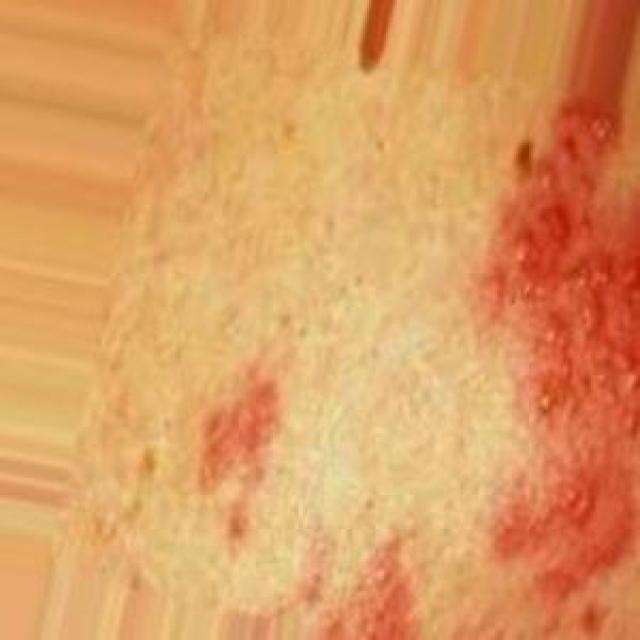Shingles: (478, 103, 640, 591), (194, 376, 279, 542), (301, 533, 425, 639)
